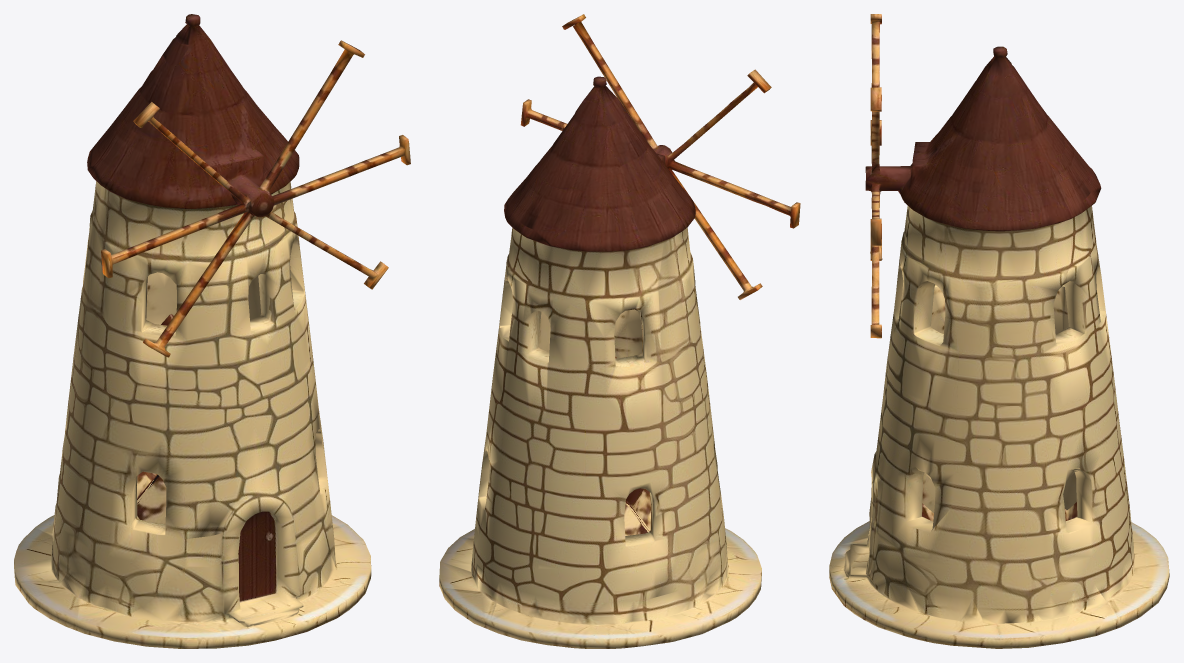
Rendered from windmill.glb.
3 views of the same model, side by side, from view 1: azimuth 30°, elevation 25°; view 2: azimuth 150°, elevation 25°; view 3: azimuth 270°, elevation 25° (orthographic). The views are drawn at different scales.
Size of the model in its own units: 1.11 by 1.91 by 1.11.
Materials: 1 (1 with a texture image).
